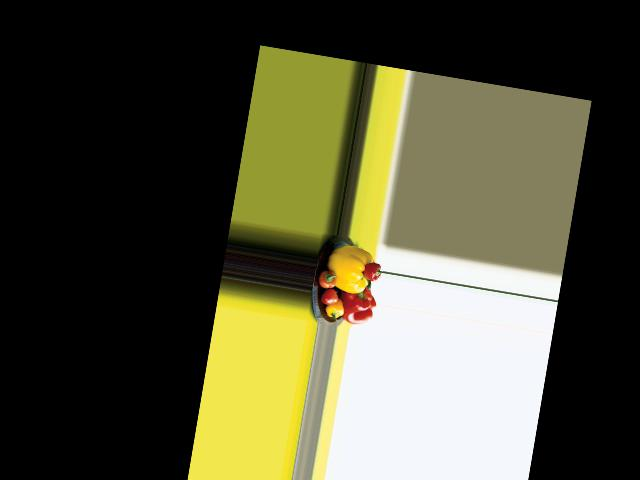bell_pepper: (324, 299, 346, 321)
